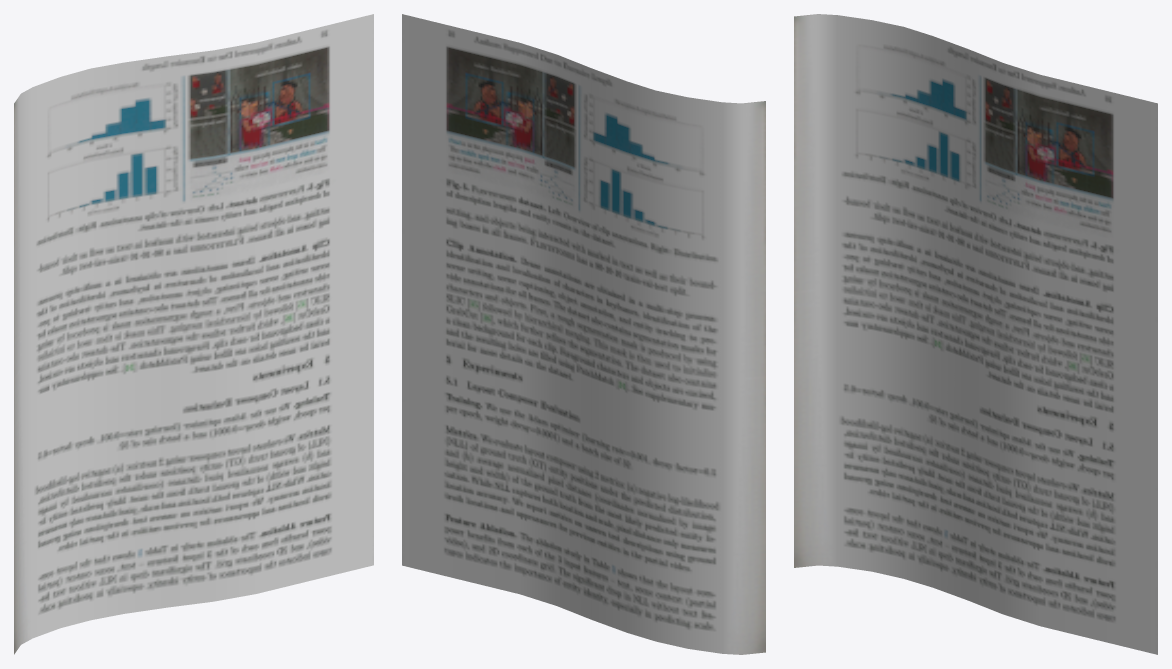
The model's file is MeshBookFront_26_1_GeomSubset_2.obj.
3 views of the same model, side by side, from view 1: azimuth 30°, elevation 25°; view 2: azimuth 150°, elevation 25°; view 3: azimuth 330°, elevation 25° (orthographic).
Parts seen in each view (by area): view 1: MeshBookFront_26_1_GeomSubset_2; view 2: MeshBookFront_26_1_GeomSubset_2; view 3: MeshBookFront_26_1_GeomSubset_2.
Boxes of the visible parts, box(x1,y1,x2,y2) form: MeshBookFront_26_1_GeomSubset_2: box(14, 14, 373, 654); MeshBookFront_26_1_GeomSubset_2: box(402, 14, 765, 654); MeshBookFront_26_1_GeomSubset_2: box(794, 14, 1157, 654).
Size of the model in its own units: 0.2463 by 0.3587 by 0.0199.
